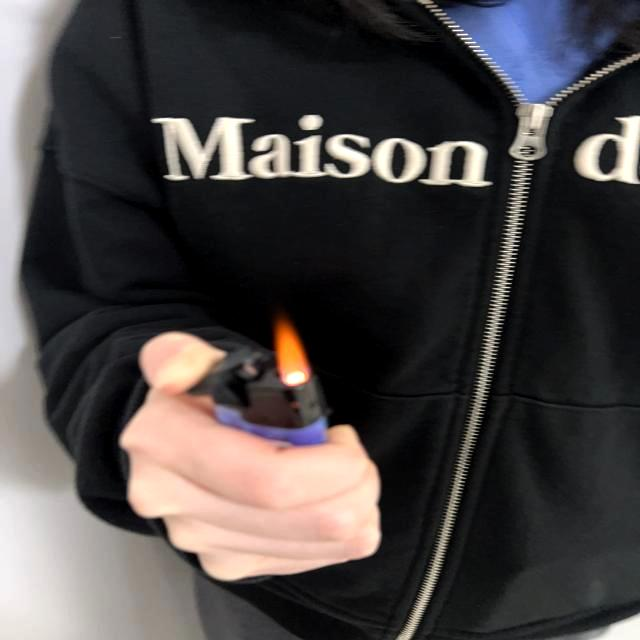fire: (268, 312, 312, 386)
